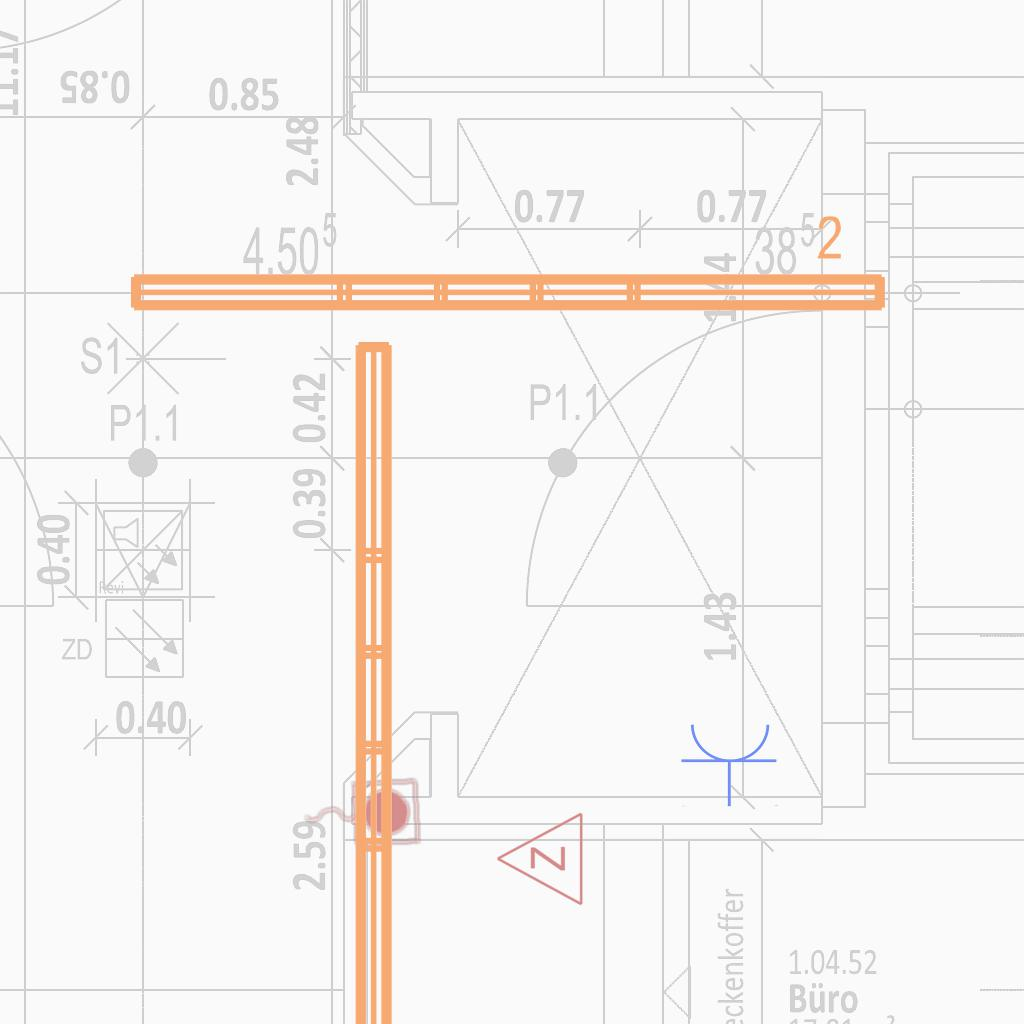Ambulanz_Pendelleuchte_LED: (120, 211, 894, 323), (343, 331, 455, 1024)
Schukosteckdose_einfach: (680, 720, 780, 807)
Zimmersignalleuchte: (490, 811, 590, 909)
Zugtaster: (298, 773, 424, 853)
